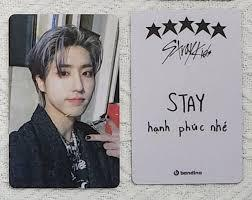text: (146, 117, 229, 139), (160, 38, 212, 67), (166, 91, 206, 114), (172, 169, 205, 177)
